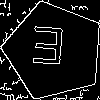E: (29, 26, 66, 75)
